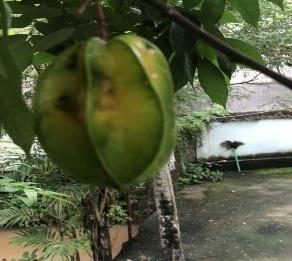Khe: (28, 35, 182, 198)
